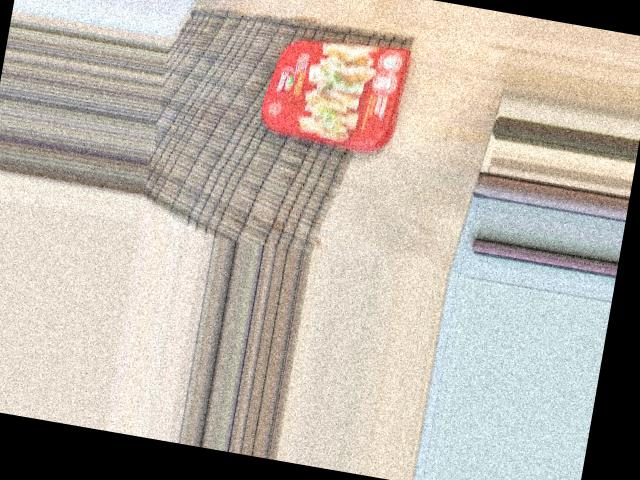cheese: (254, 16, 433, 157)
